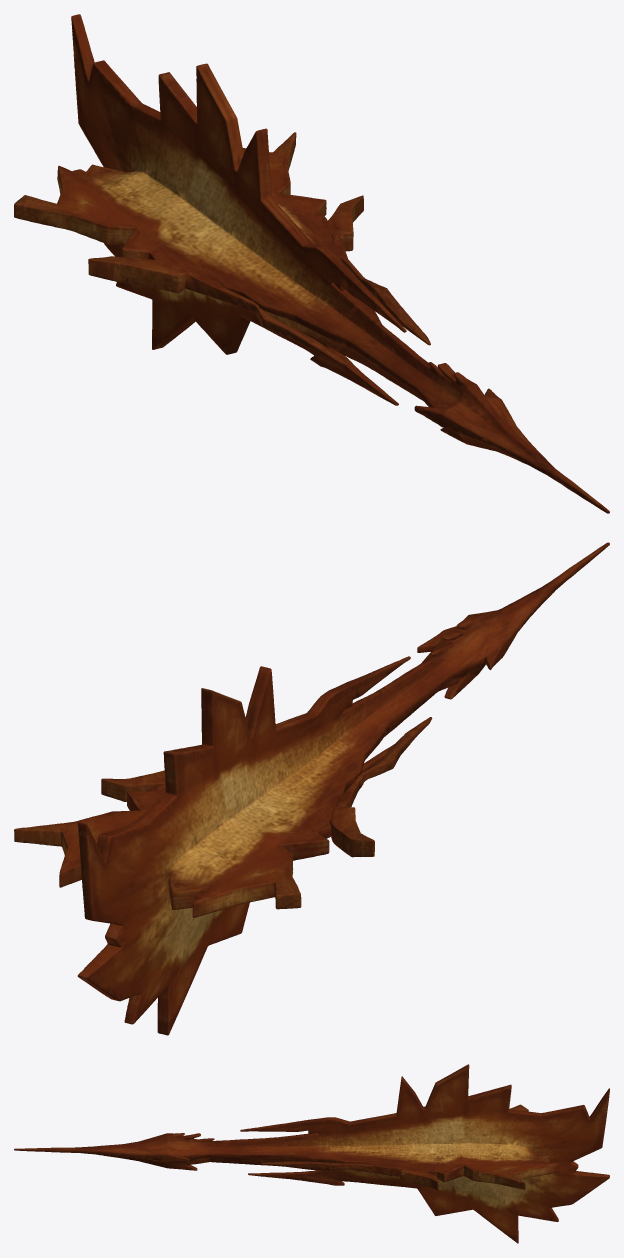
File: Fireball.glb
3 renders of one model, top to bottom at view 1: azimuth 30°, elevation 25°; view 2: azimuth 150°, elevation 25°; view 3: azimuth 270°, elevation 25°, orthographic. The views are drawn at different scales.
Parts seen in each view (by area): view 1: world; view 2: world; view 3: world.
Part boxes in pixels (x1,y1,x2,y2): world: (14, 14, 609, 513); world: (14, 542, 609, 1035); world: (14, 1064, 609, 1243).
Bounding box in the file's own units: 0.3105 × 0.3282 × 1.
1 material, 1 textured.
